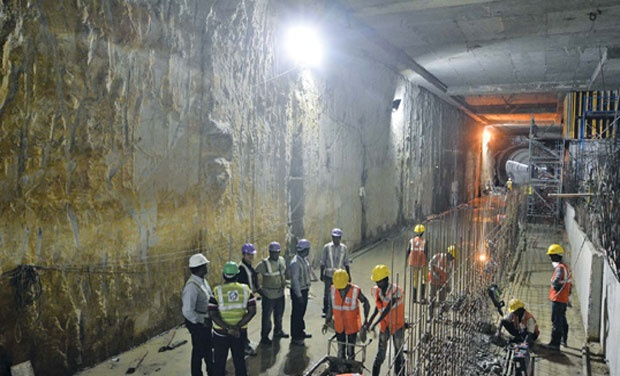blue: (267, 240, 282, 260), (240, 242, 255, 261), (296, 238, 310, 257), (331, 228, 343, 244)
white: (188, 252, 210, 276)
yellow: (371, 265, 391, 288), (332, 269, 349, 291), (547, 243, 564, 263), (509, 296, 525, 316), (445, 245, 459, 259), (414, 223, 425, 236)
